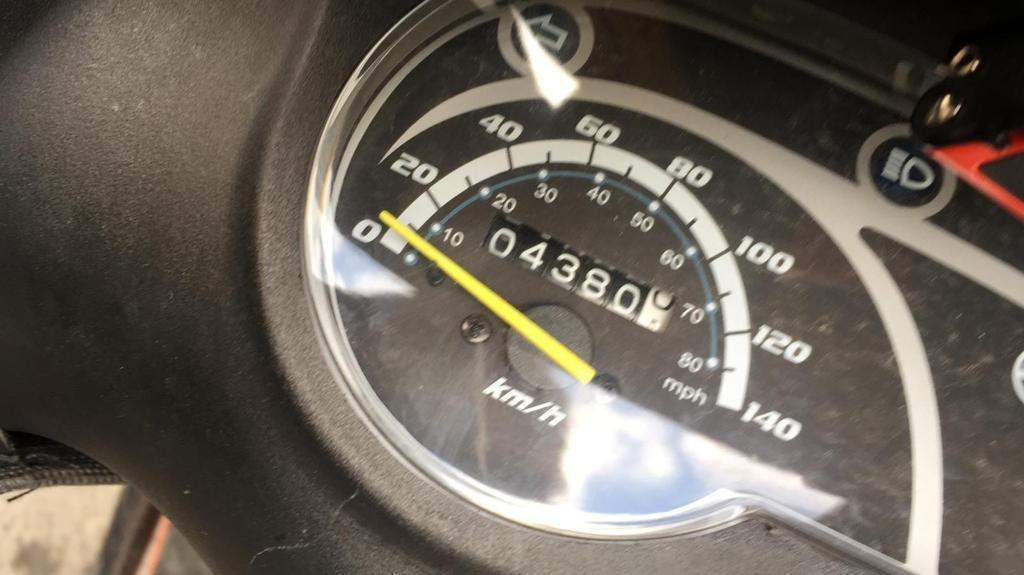0: (487, 226, 516, 259), (612, 283, 641, 314), (652, 283, 677, 311), (669, 253, 685, 270), (640, 216, 655, 232)
3: (550, 252, 581, 283)
4: (518, 240, 547, 270)
5: (629, 210, 645, 228)
6: (659, 248, 675, 265)
8: (581, 266, 611, 299)
odometer: (477, 208, 680, 338)
